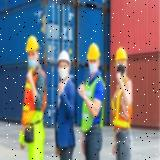Helmet: (87, 42, 100, 61), (26, 35, 40, 52), (57, 49, 71, 65), (115, 46, 129, 62)
Vest: (81, 75, 106, 134), (111, 76, 133, 132)
